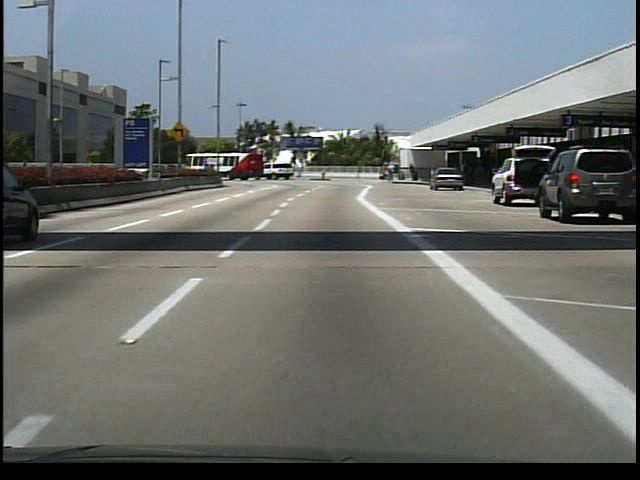person: (458, 157, 473, 187), (386, 159, 396, 183)
